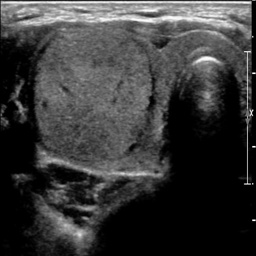mass: (35, 26, 151, 158)
